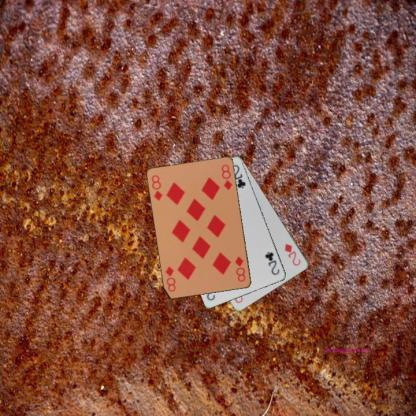2c: (262, 249, 281, 276)
2d: (282, 241, 302, 267)
8d: (149, 172, 164, 202), (232, 254, 247, 283)
